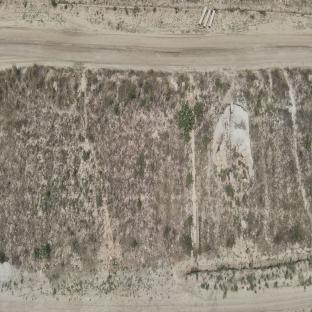slope_drain: (189, 132, 200, 252)
toe_drain: (179, 250, 312, 280)
